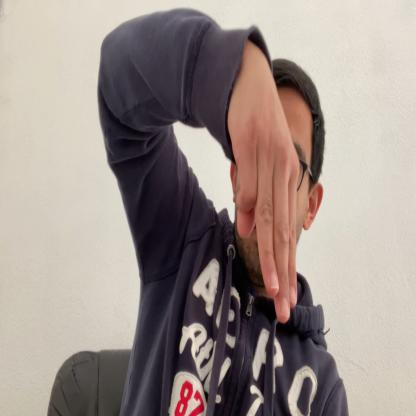M: (234, 55, 297, 324)
